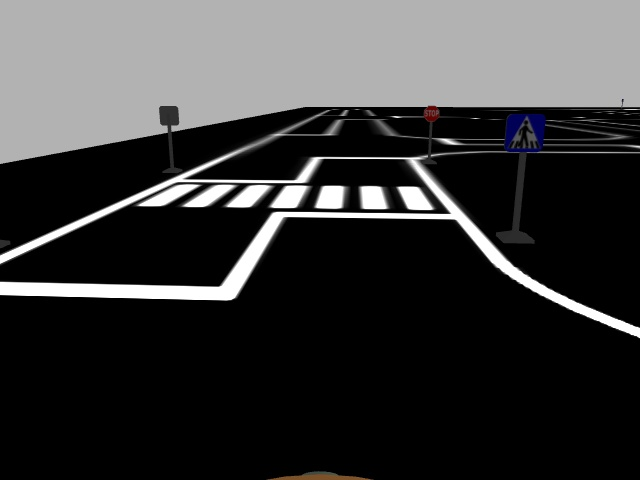crosswalk: (504, 112, 547, 153)
stop: (421, 104, 441, 123)
